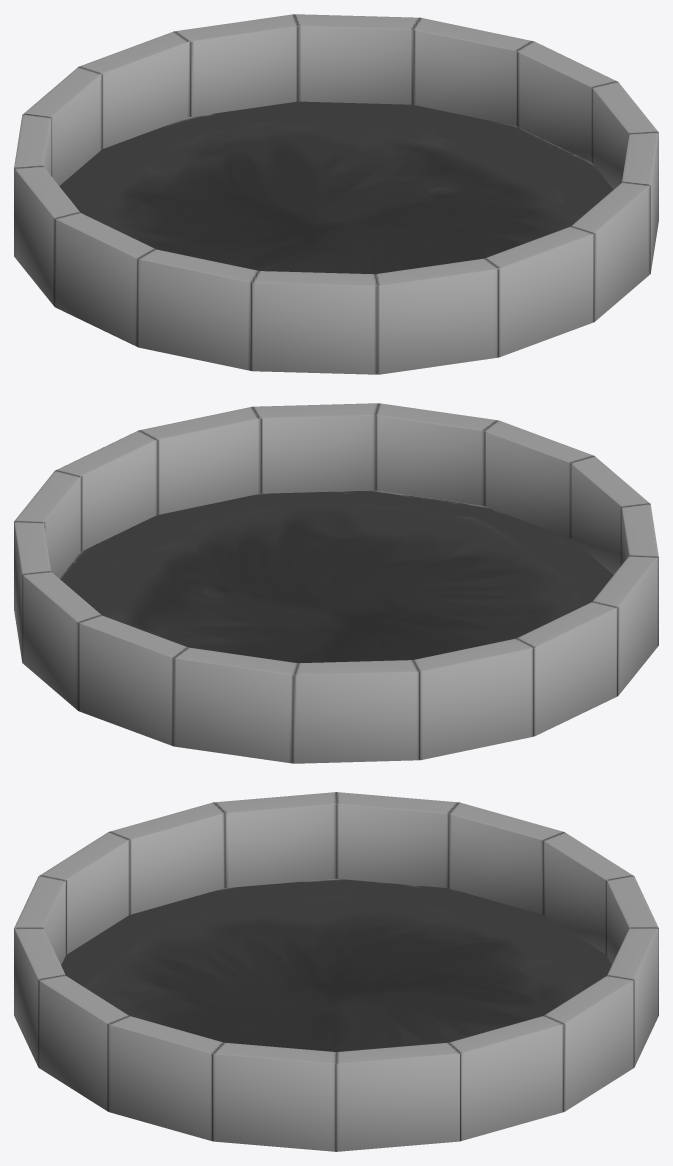
The model's file is FountainBaseV2.fbx.
The picture shows the model from 3 angles, top to bottom: view 1: azimuth 30°, elevation 25°; view 2: azimuth 150°, elevation 25°; view 3: azimuth 270°, elevation 25°; orthographic projection.
Parts seen in each view (by area): view 1: Base.V2; view 2: Base.V2; view 3: Base.V2.
Boxes of the visible parts, x1,y1,x2,y2 form: Base.V2: [14, 14, 658, 374]; Base.V2: [14, 403, 658, 763]; Base.V2: [14, 792, 658, 1151].
Bounding box in the file's own units: 200 × 30 × 200.
